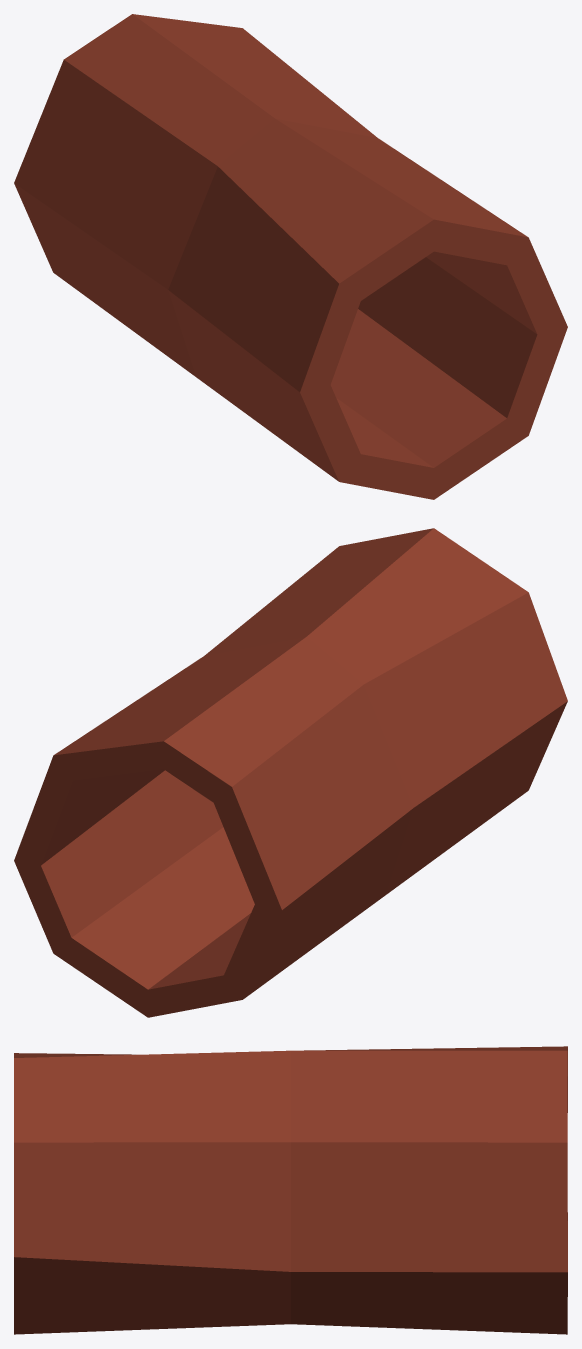
The model's file is log_5a.fbx.
3 renders of one model, top to bottom at view 1: azimuth 30°, elevation 25°; view 2: azimuth 150°, elevation 25°; view 3: azimuth 270°, elevation 25°, orthographic. The views are drawn at different scales.
Parts seen in each view (by area): view 1: log_5a; view 2: log_5a; view 3: log_5a.
Boxes of the visible parts, <box> form: log_5a: <box>14,14,567,499</box>; log_5a: <box>14,528,567,1017</box>; log_5a: <box>14,1046,567,1334</box>.
Bounding box in the file's own units: 53.19 × 53.18 × 98.37.
